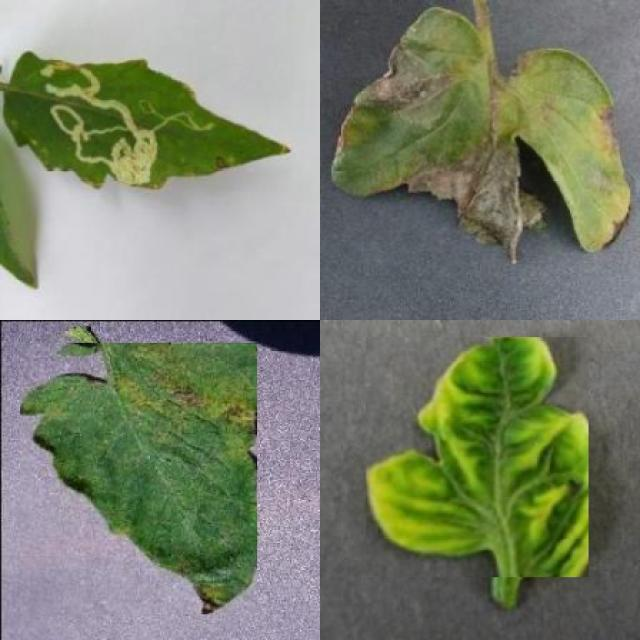Late Blight: (332, 6, 628, 264)
Leaf Miner: (0, 49, 291, 191)
Septoria: (20, 342, 257, 614)
Yellow Leaf Curl Virus: (366, 337, 588, 577)
